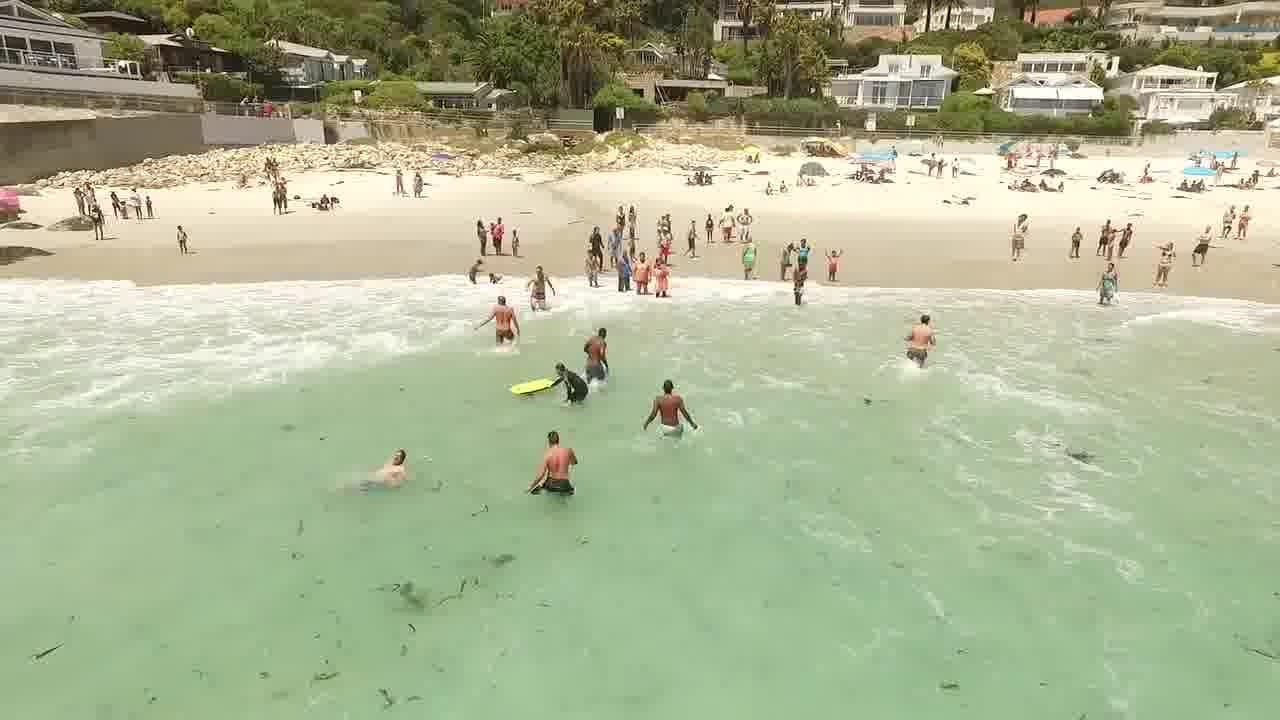swimmer: (532, 422, 584, 506), (651, 367, 697, 441), (900, 304, 937, 372), (579, 320, 617, 384), (487, 295, 531, 350), (373, 433, 423, 478), (526, 257, 563, 317), (545, 353, 581, 411), (1088, 258, 1131, 305)
